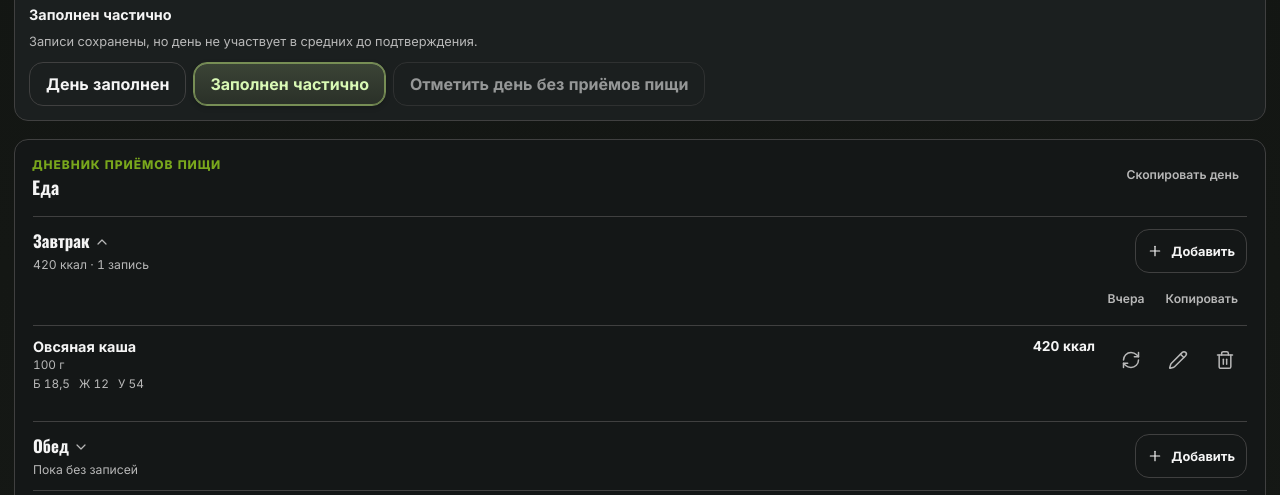
NutritionDiary › edits and deletes an entry with explicit confirmation
(page scrolled)
Check: the text "Овсяная каша" is shown, box [33,338,136,355]
Click the button named "Изменить Овсяная каша" at [1178, 360], box [1156,338,1200,382]
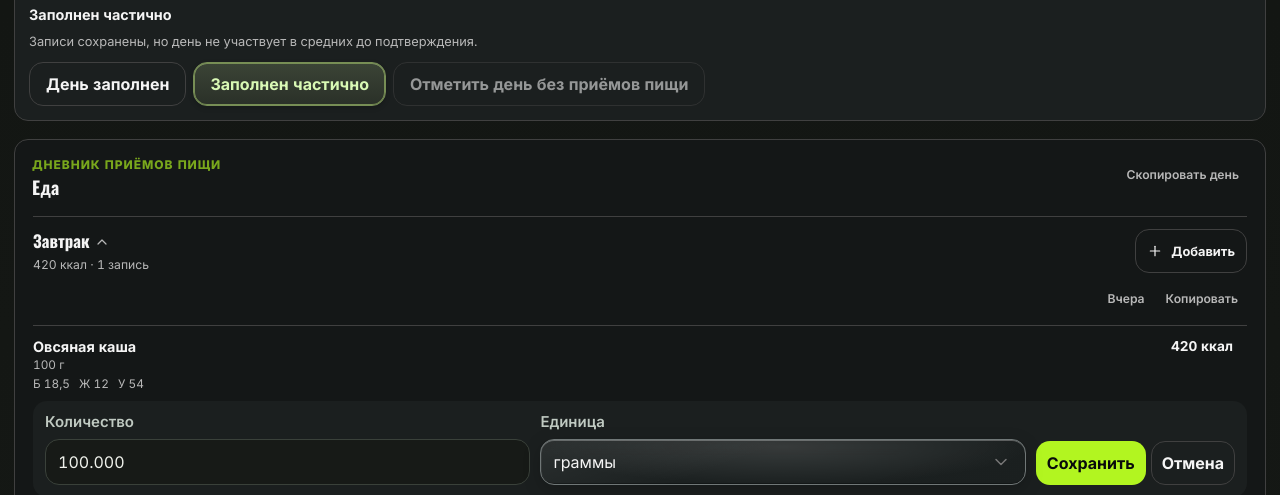
Replace the text in the number field labelled "Количество" with "150" at [288, 462], box [45,438,530,484]
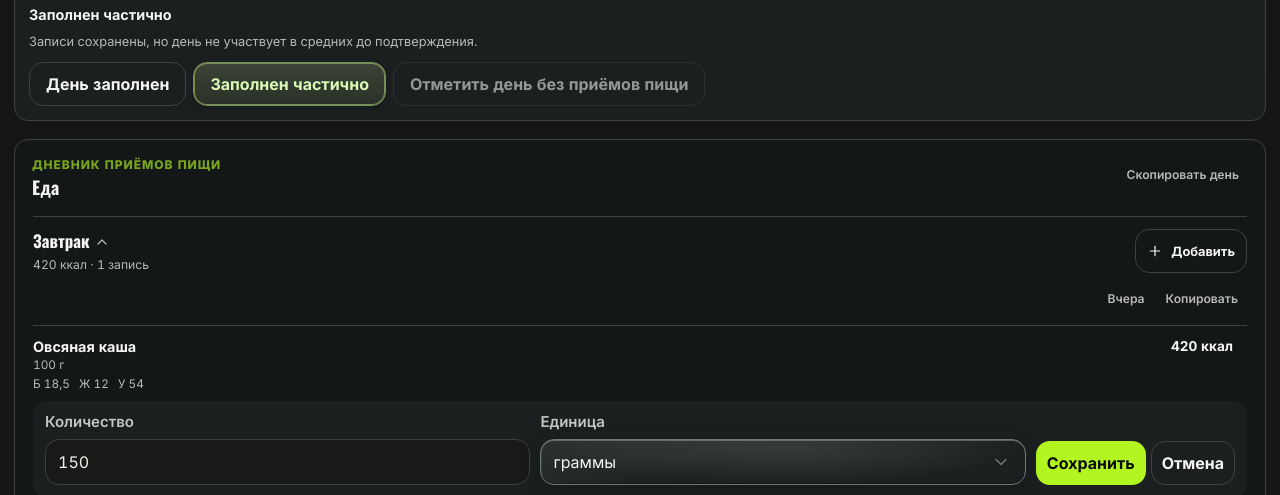
Click the button "Сохранить" at [1091, 462], box [1036,440,1146,484]
(page scrolled)
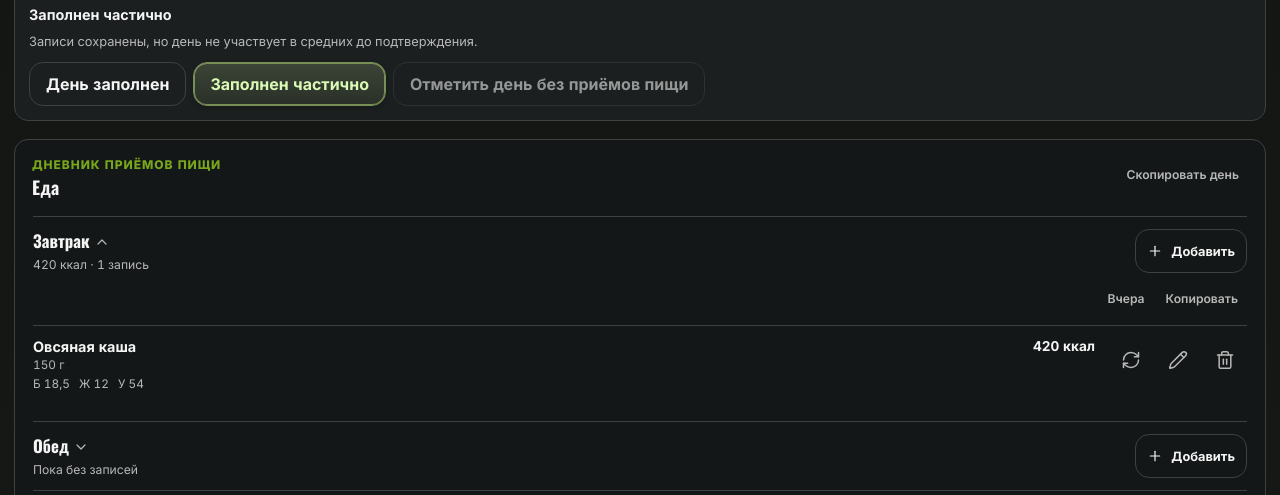
Click the button named "Удалить Овсяная каша" at [1225, 360], box [1203,338,1247,382]
(page scrolled)
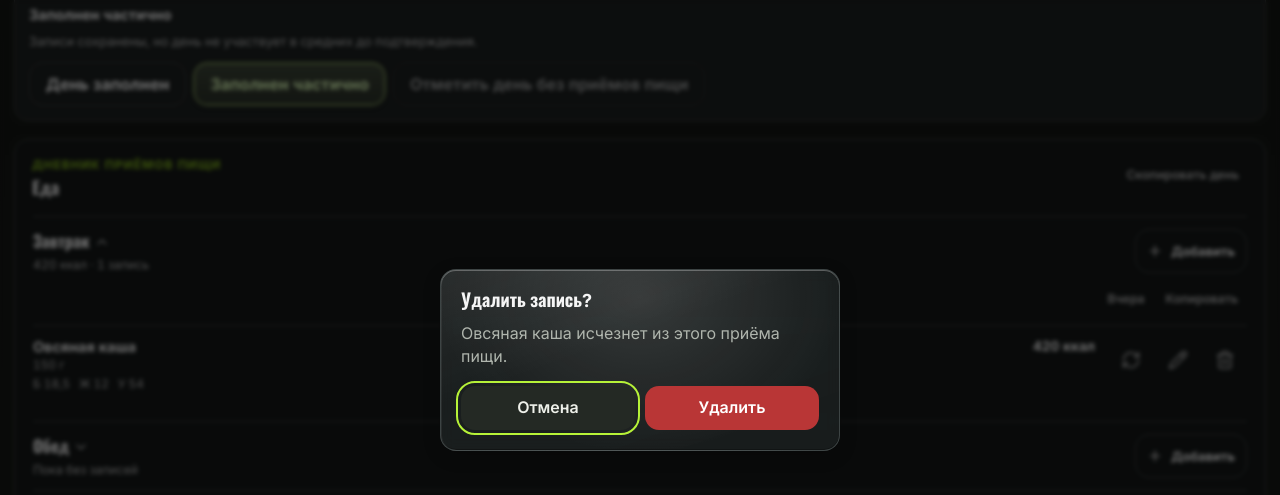
Click the button "Удалить" at [732, 408], box [645,386,819,430]
(page scrolled)
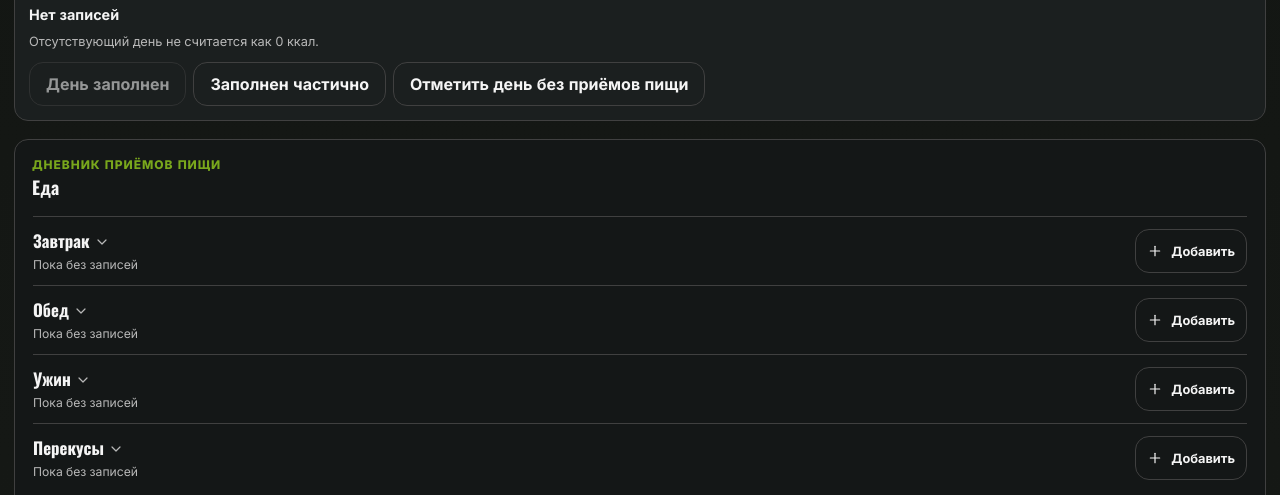
Check: the text "Овсяная каша" is gone
